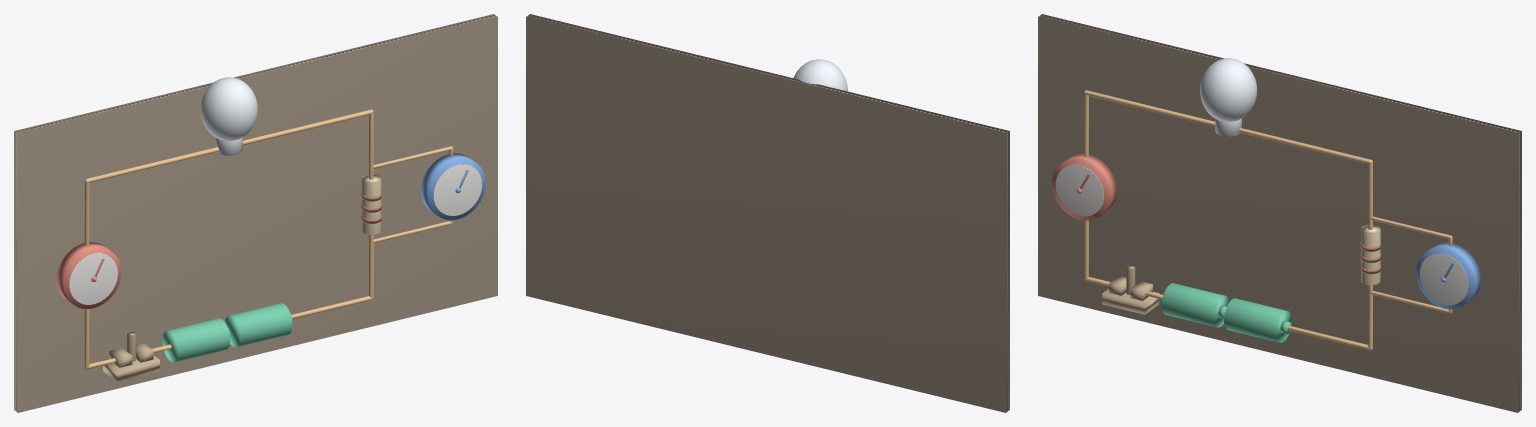
File: electric_circuit.glb
3 views of the same model, side by side, from view 1: azimuth 30°, elevation 25°; view 2: azimuth 150°, elevation 25°; view 3: azimuth 330°, elevation 25° (orthographic).
Visible parts, largest first — view 1: board, wires, battery, bulb_glass, ammeter_face, voltmeter_face, plug_key, ammeter, voltmeter, resistor; view 2: board, bulb_glass; view 3: board, battery, wires, bulb_glass, ammeter_face, voltmeter_face, plug_key, voltmeter, ammeter, resistor.
Part boxes in pixels (<box>): board: <box>14,14,497,412</box>; wires: <box>84,109,453,369</box>; battery: <box>162,303,292,362</box>; bulb_glass: <box>200,77,257,140</box>; ammeter_face: <box>69,253,117,304</box>; voltmeter_face: <box>433,164,481,215</box>; plug_key: <box>103,332,159,381</box>; ammeter: <box>56,242,121,308</box>; voltmeter: <box>421,153,485,220</box>; resistor: <box>361,174,381,234</box>; board: <box>526,14,1009,412</box>; bulb_glass: <box>793,59,847,91</box>; board: <box>1038,14,1521,412</box>; battery: <box>1161,283,1291,342</box>; wires: <box>1084,90,1452,350</box>; bulb_glass: <box>1200,58,1257,121</box>; ammeter_face: <box>1055,164,1104,216</box>; voltmeter_face: <box>1420,253,1468,305</box>; plug_key: <box>1102,265,1159,314</box>; voltmeter: <box>1416,242,1480,309</box>; ammeter: <box>1052,153,1116,220</box>; resistor: <box>1361,225,1380,285</box>.
Size of the model in its own units: 0.27 by 0.1569 by 0.0279.
